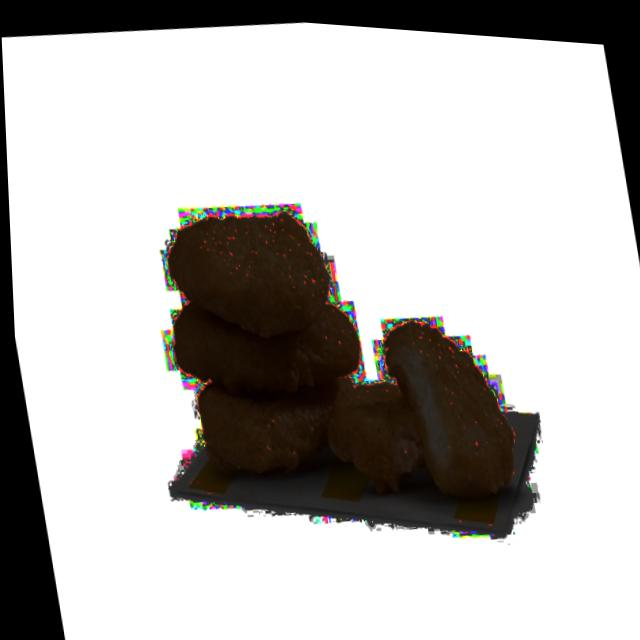chicken_nuggets: (126, 171, 354, 349), (382, 304, 539, 528), (166, 261, 372, 412), (181, 358, 338, 491), (320, 363, 432, 504)
